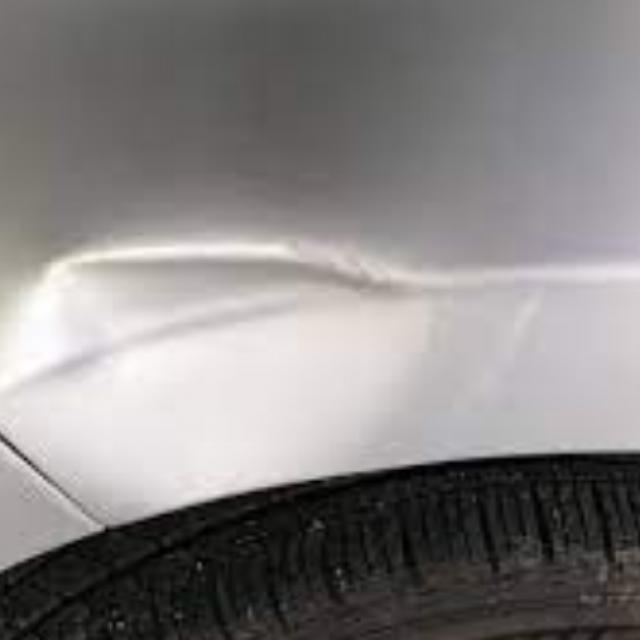dents: (14, 196, 472, 479)
